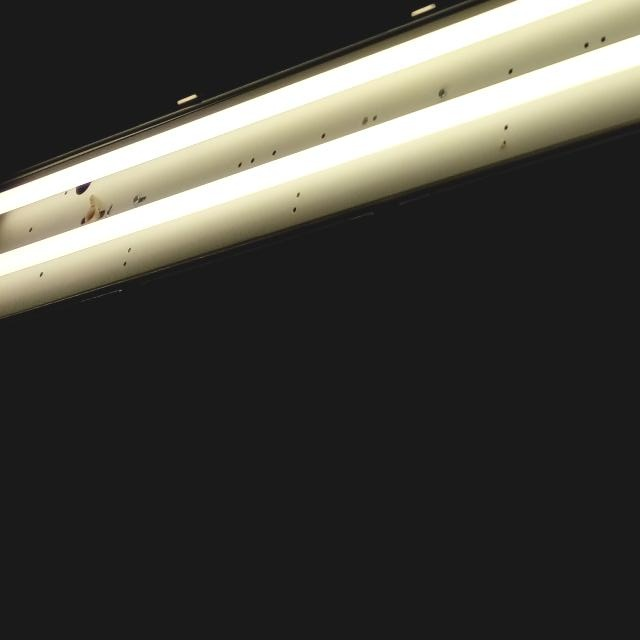fluorescent tube: (0, 0, 640, 345), (0, 0, 640, 246)
